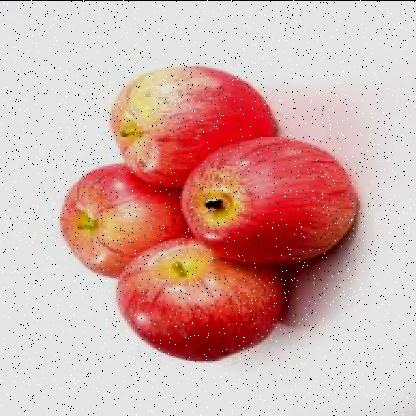apple: (110, 67, 274, 186), (189, 140, 347, 262), (120, 240, 266, 358), (64, 155, 178, 277)
